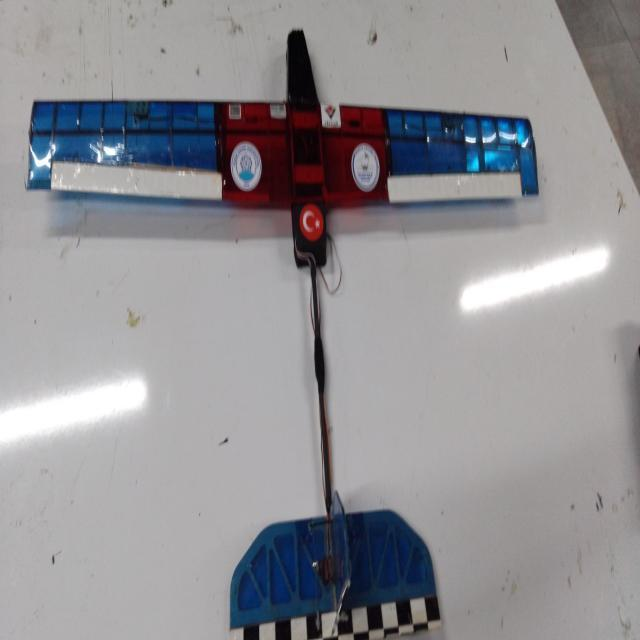UAV: (31, 28, 616, 638)
